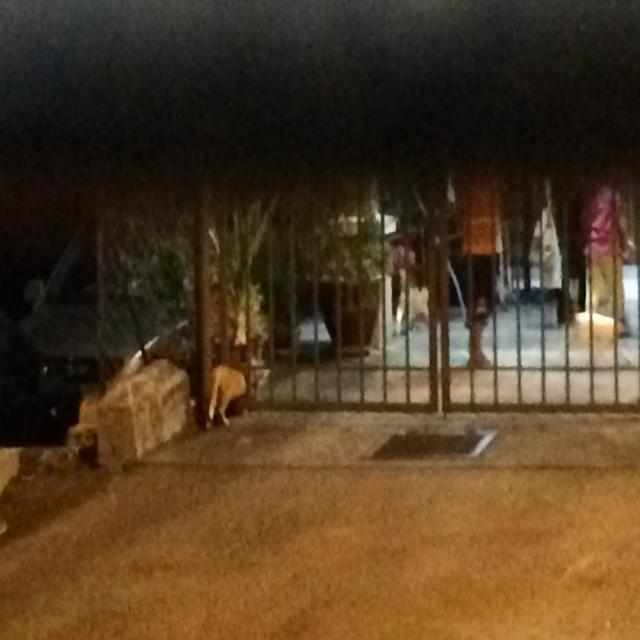Cat: (202, 359, 273, 431)
People: (446, 144, 515, 375), (578, 153, 634, 356)
